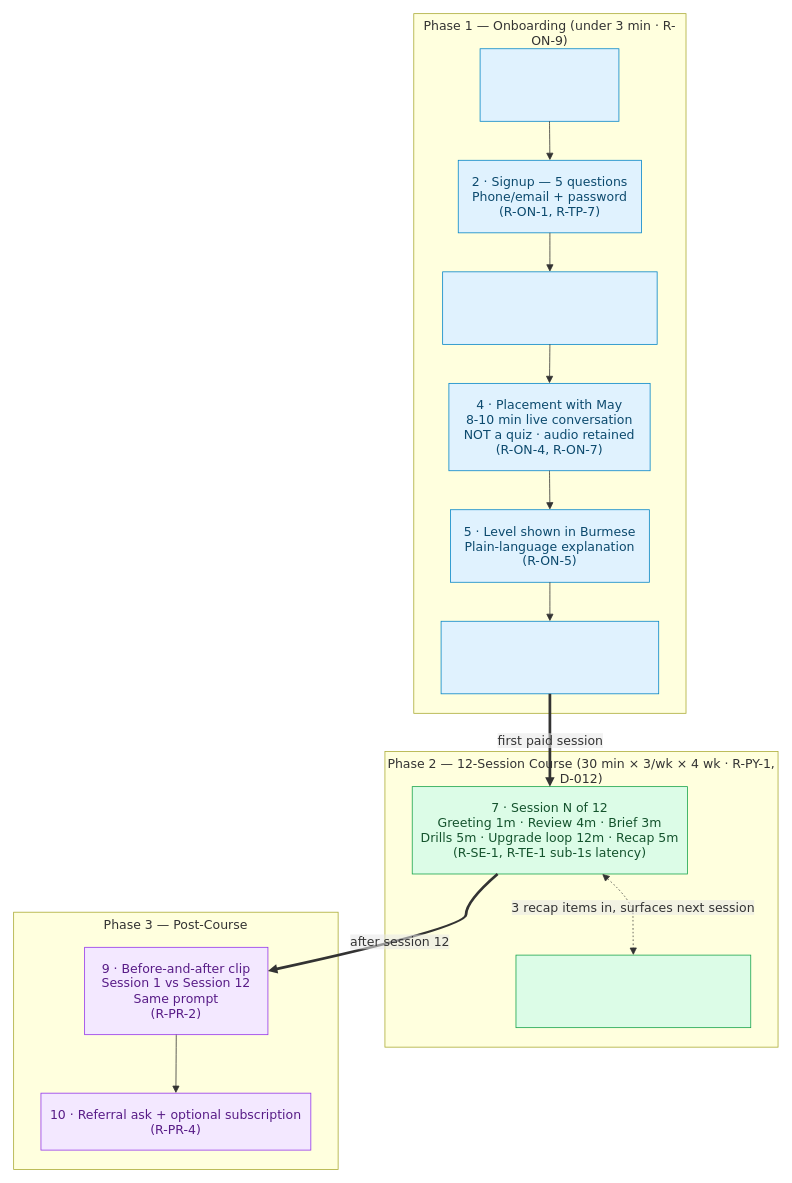
This 792x1183 diagram has some shape labels left out. The centre of each missing label's shape, as x and y in pixels:
1 · Landing page Burmese UI (R-PL-1, R-PL-3): the point at 549,84
3 · Mic permission + 5s test Burmese error page on failure (R-ON-3): the point at 549,307
6 · Paywall Manual bank transfer (first 50) (D-026, R-ON-6): the point at 549,657
8 · Spaced review queue Intervals: 1d → 3d → 1wk → 3wk (R-RV-3, R-RC-2, R-RC-3): the point at 633,991
